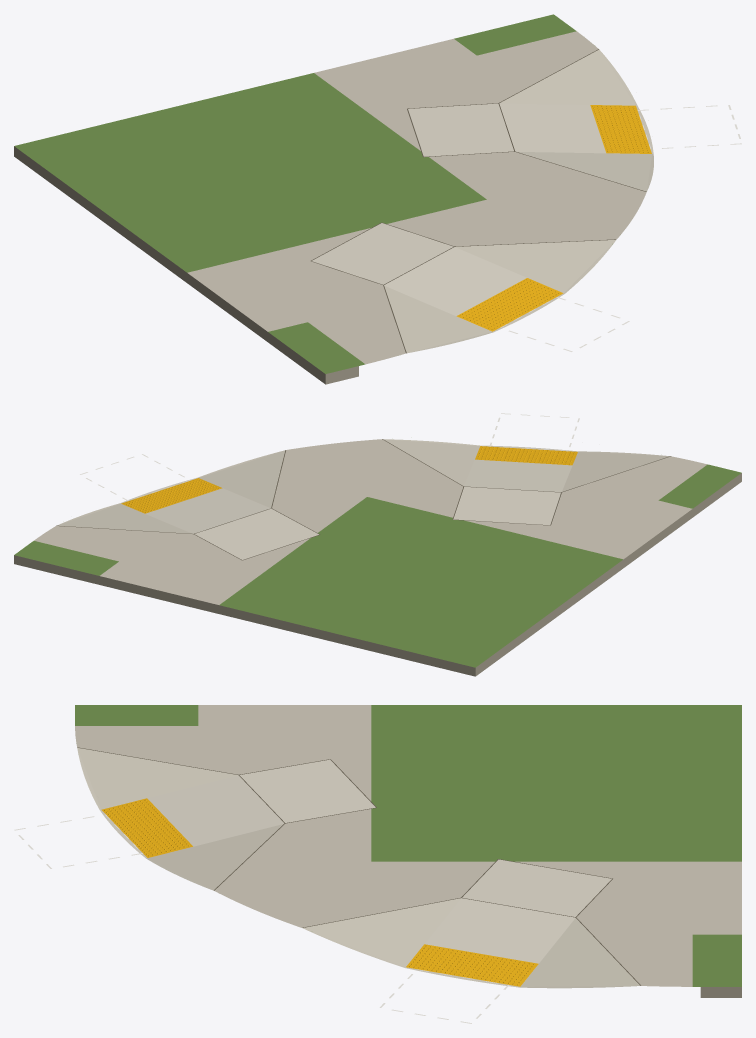
The model's file is ramp-422a-radius.glb.
The picture shows the model from 3 angles, top to bottom: view 1: azimuth 30°, elevation 25°; view 2: azimuth 150°, elevation 25°; view 3: azimuth 270°, elevation 25°; orthographic projection. The views are drawn at different scales.
Visible parts, largest first — view 1: Seattle Type 422A: Perpendicular ramps on a curved corner; view 2: Seattle Type 422A: Perpendicular ramps on a curved corner; view 3: Seattle Type 422A: Perpendicular ramps on a curved corner.
Part boxes in pixels (x1,y1,x2,y2): Seattle Type 422A: Perpendicular ramps on a curved corner: [14, 14, 741, 384]; Seattle Type 422A: Perpendicular ramps on a curved corner: [14, 413, 741, 676]; Seattle Type 422A: Perpendicular ramps on a curved corner: [14, 705, 741, 1023].
Bounding box in the file's own units: 8.99 × 0.1554 × 8.98.
